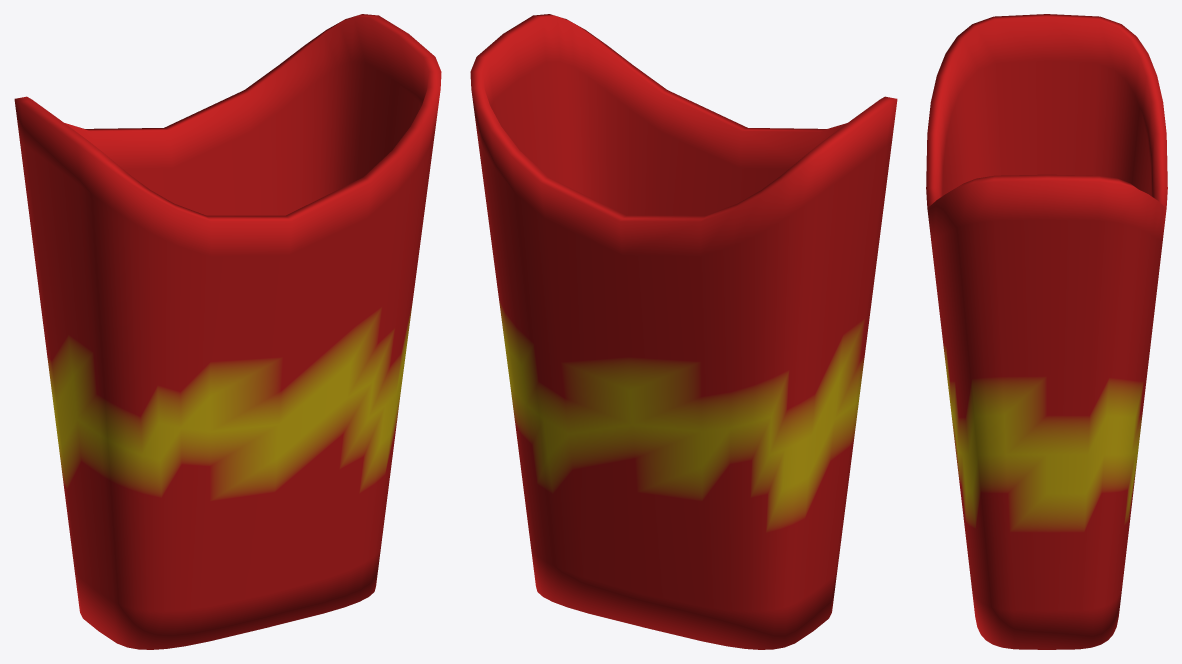
The model's file is fry_carton_empty.glb.
The picture shows the model from 3 angles, left to right: view 1: azimuth 30°, elevation 25°; view 2: azimuth 150°, elevation 25°; view 3: azimuth 270°, elevation 25°; orthographic projection. The views are drawn at different scales.
Parts seen in each view (by area): view 1: fry_carton_empty; view 2: fry_carton_empty; view 3: fry_carton_empty.
Boxes of the visible parts, box(x1,y1,x2,y2) form: fry_carton_empty: box(14, 14, 441, 649); fry_carton_empty: box(470, 14, 897, 649); fry_carton_empty: box(926, 14, 1167, 649).
Size of the model in its own units: 0.098 by 0.1353 by 0.06.
